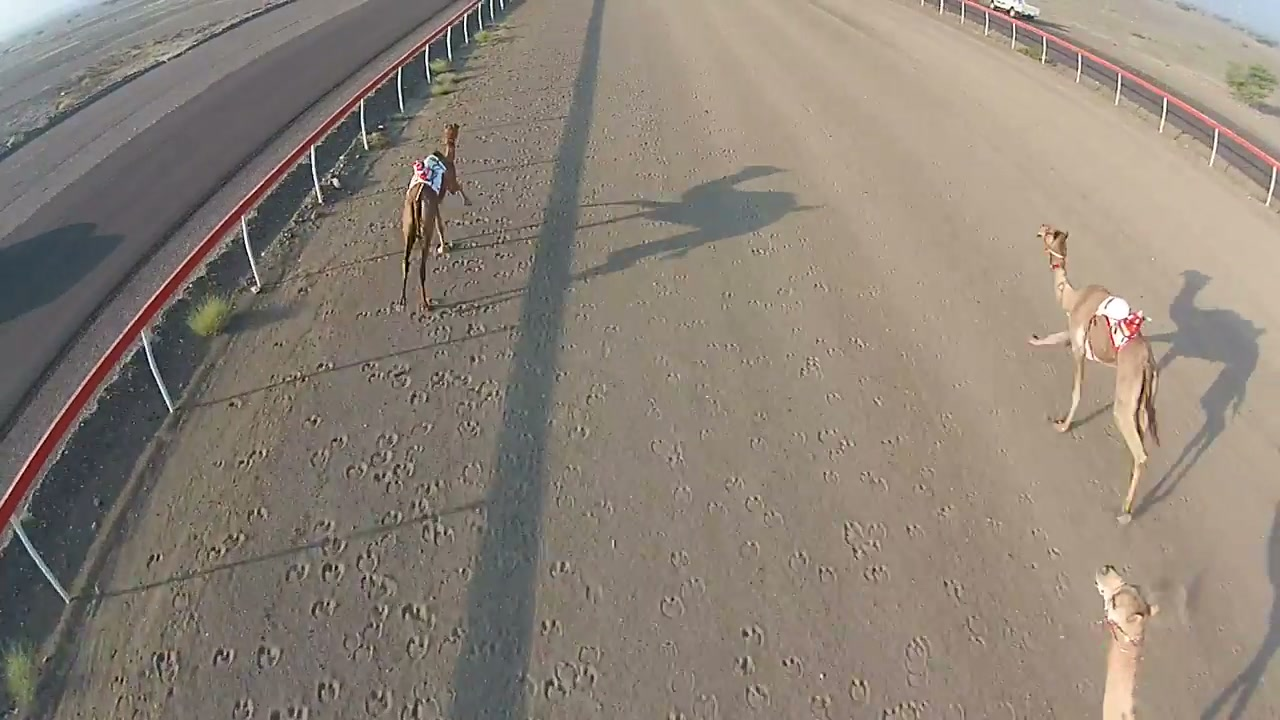animal_footprint: (129, 331, 484, 718)
